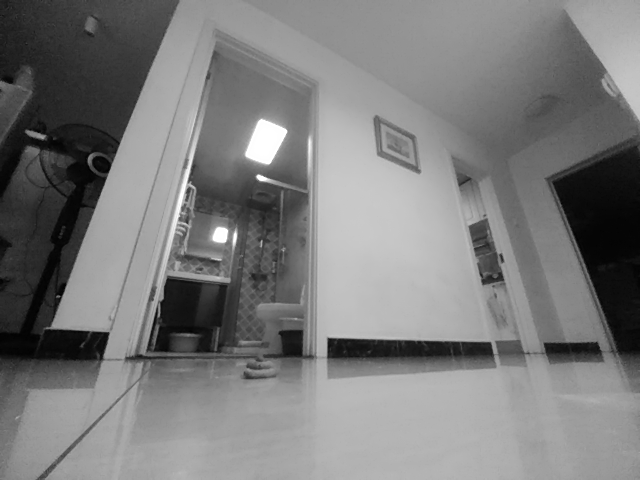pet feces: (242, 351, 277, 380)
